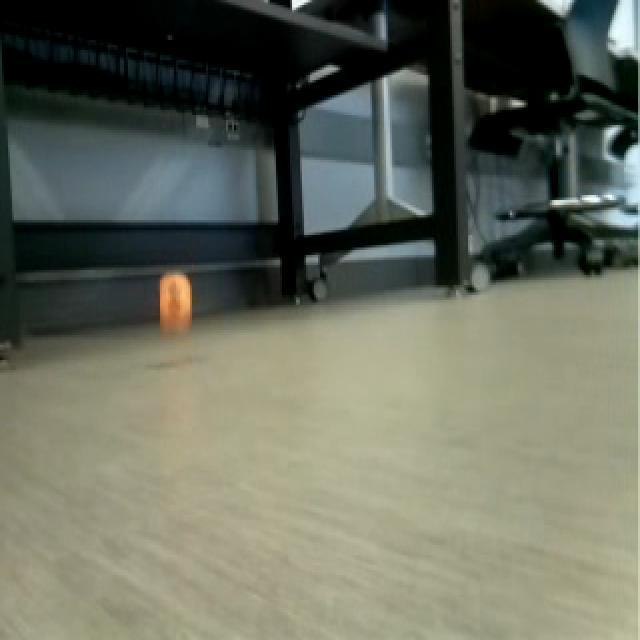ping-pong-ball: (155, 271, 195, 324)
